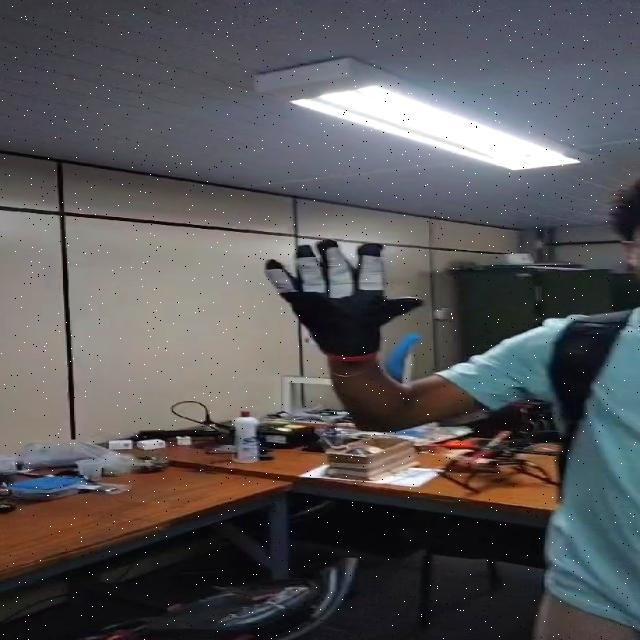Gloves: (262, 236, 418, 364)
